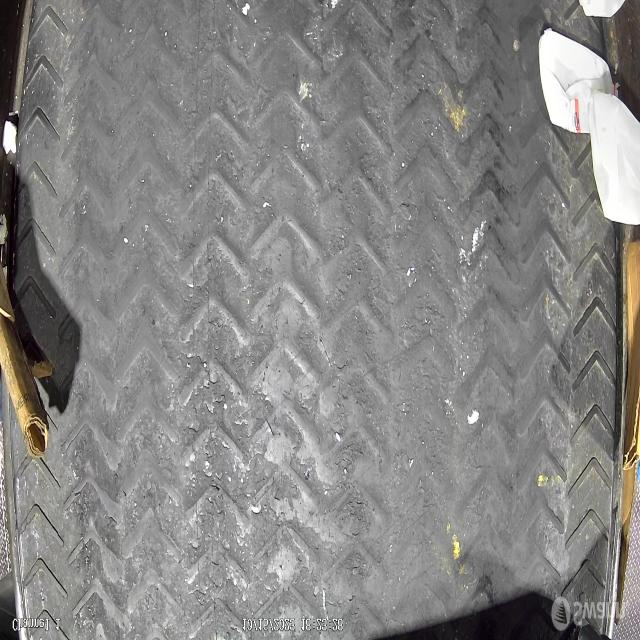milk_jug: (538, 26, 618, 134), (589, 90, 640, 226)
